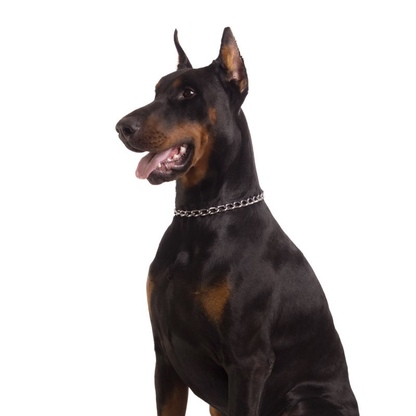doberman: (116, 23, 373, 415)
